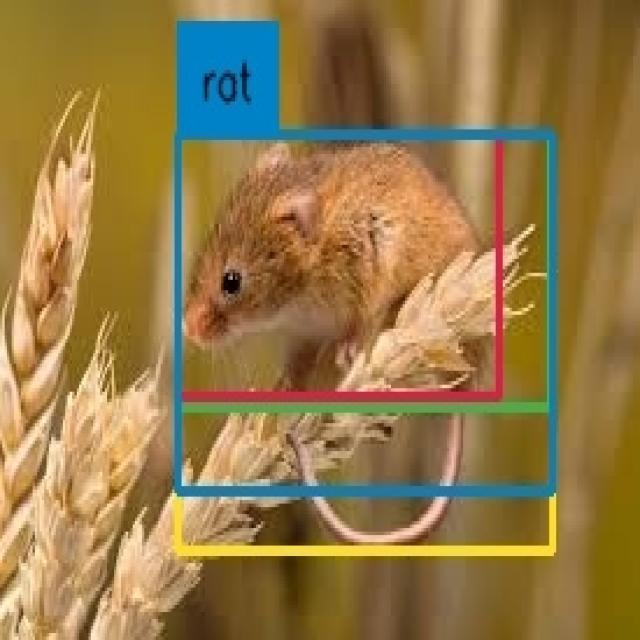rat: (178, 133, 553, 552), (179, 135, 552, 491), (178, 134, 550, 408), (178, 135, 499, 397)
